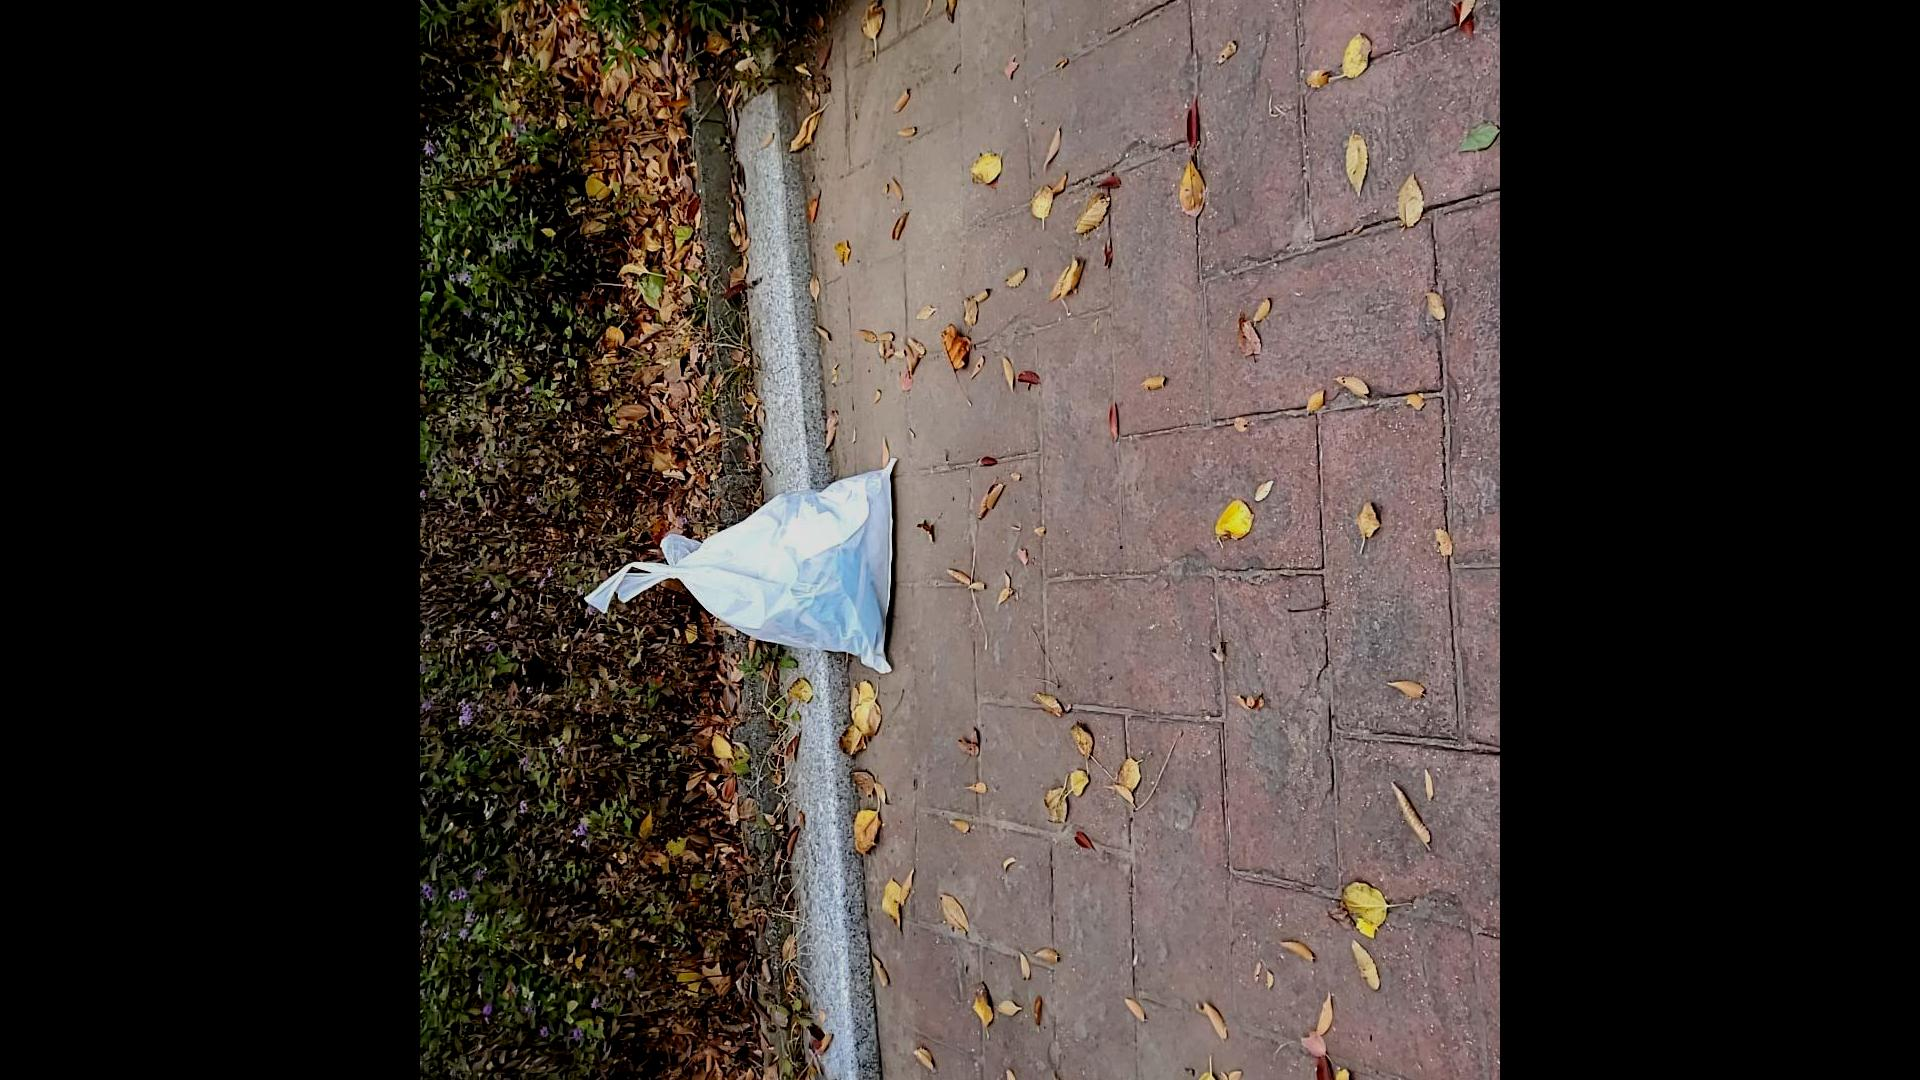white_bag: (576, 448, 903, 687)
